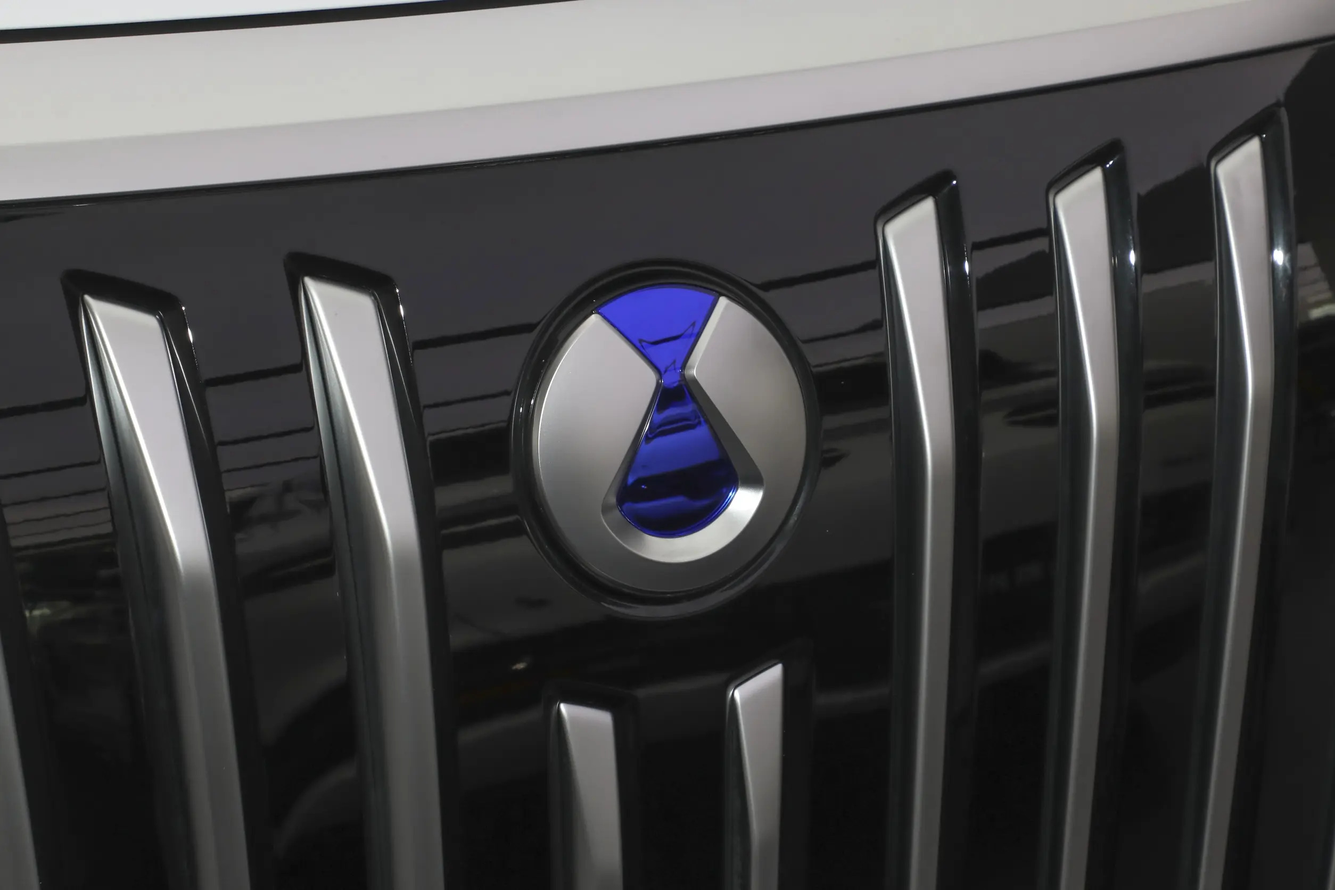DENZA: (531, 284, 806, 593)
